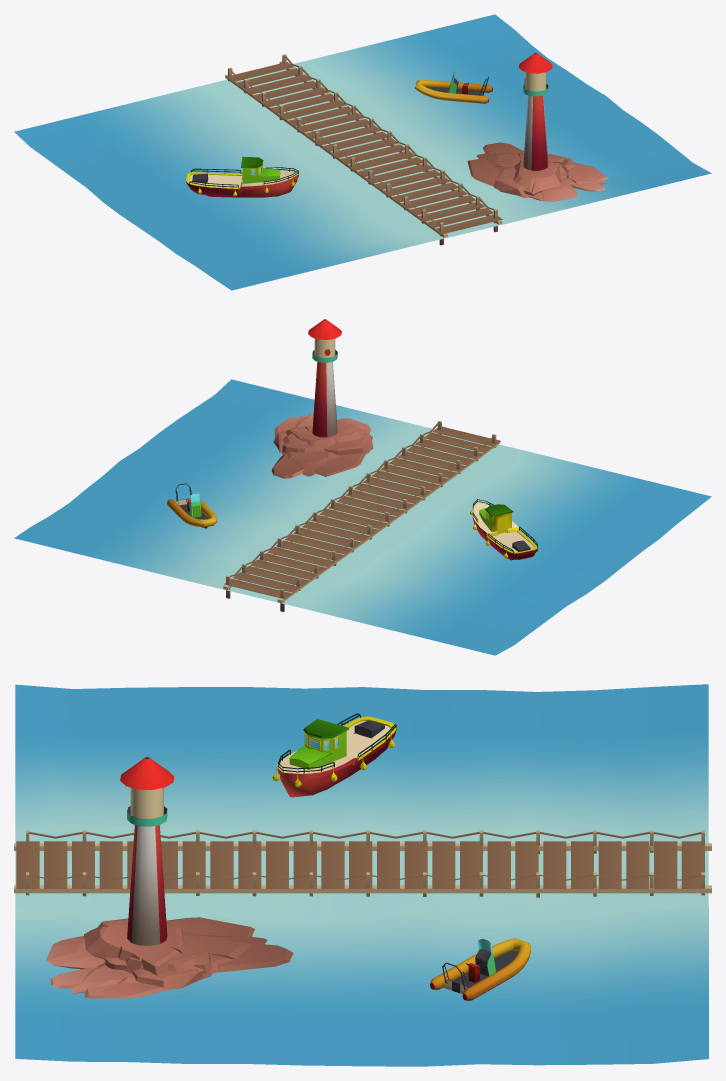
3 views of the same model, one above another, from view 1: azimuth 30°, elevation 25°; view 2: azimuth 150°, elevation 25°; view 3: azimuth 270°, elevation 25° (orthographic). The views are drawn at different scales.
Parts seen in each view (by area): view 1: Patch_7, Patch_4_road, Patch_8, Patch_6; view 2: Patch_7, Patch_4_road, Patch_8, Patch_6; view 3: Patch_7, Patch_4_road, Patch_8, Patch_6.
Part boxes in pixels (bbox=[...]): Patch_7: bbox=[14, 14, 711, 290]; Patch_4_road: bbox=[225, 54, 502, 245]; Patch_8: bbox=[186, 156, 298, 197]; Patch_6: bbox=[415, 71, 492, 103]; Patch_7: bbox=[14, 319, 711, 655]; Patch_4_road: bbox=[223, 421, 500, 611]; Patch_8: bbox=[470, 499, 538, 560]; Patch_6: bbox=[167, 483, 217, 528]; Patch_7: bbox=[15, 684, 708, 1066]; Patch_4_road: bbox=[14, 830, 711, 897]; Patch_8: bbox=[272, 713, 396, 797]; Patch_6: bbox=[430, 938, 530, 1000].
Bounding box in the file's own units: 2749 × 711 × 2138.
